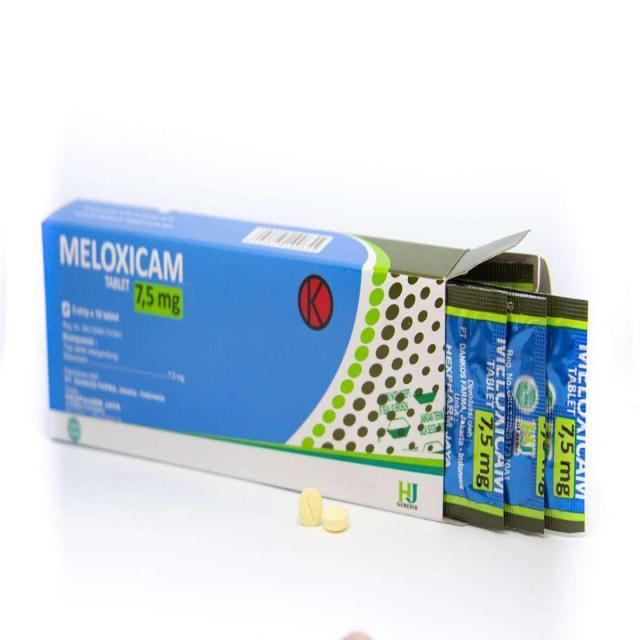drug-name: (56, 231, 185, 284)
